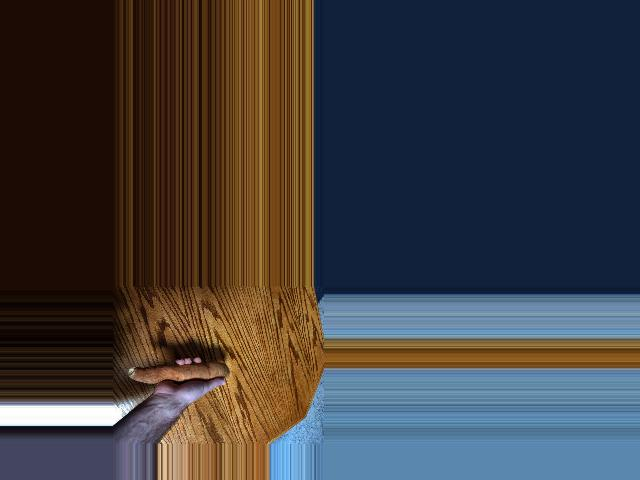sweet_potato: (126, 357, 236, 390)
